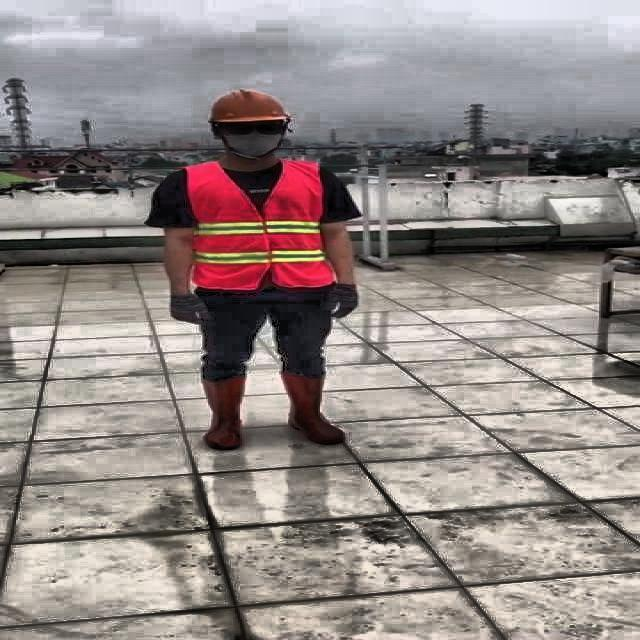safety_helmet: (205, 88, 290, 125)
safety_jacket: (185, 158, 336, 291)
